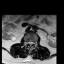CCS_normal: (29, 39, 31, 48)
LFS_normal: (33, 39, 35, 45)
LLS_normal: (31, 39, 33, 45)
RFS_normal: (26, 39, 28, 45)
RLS_normal: (28, 39, 29, 45)
